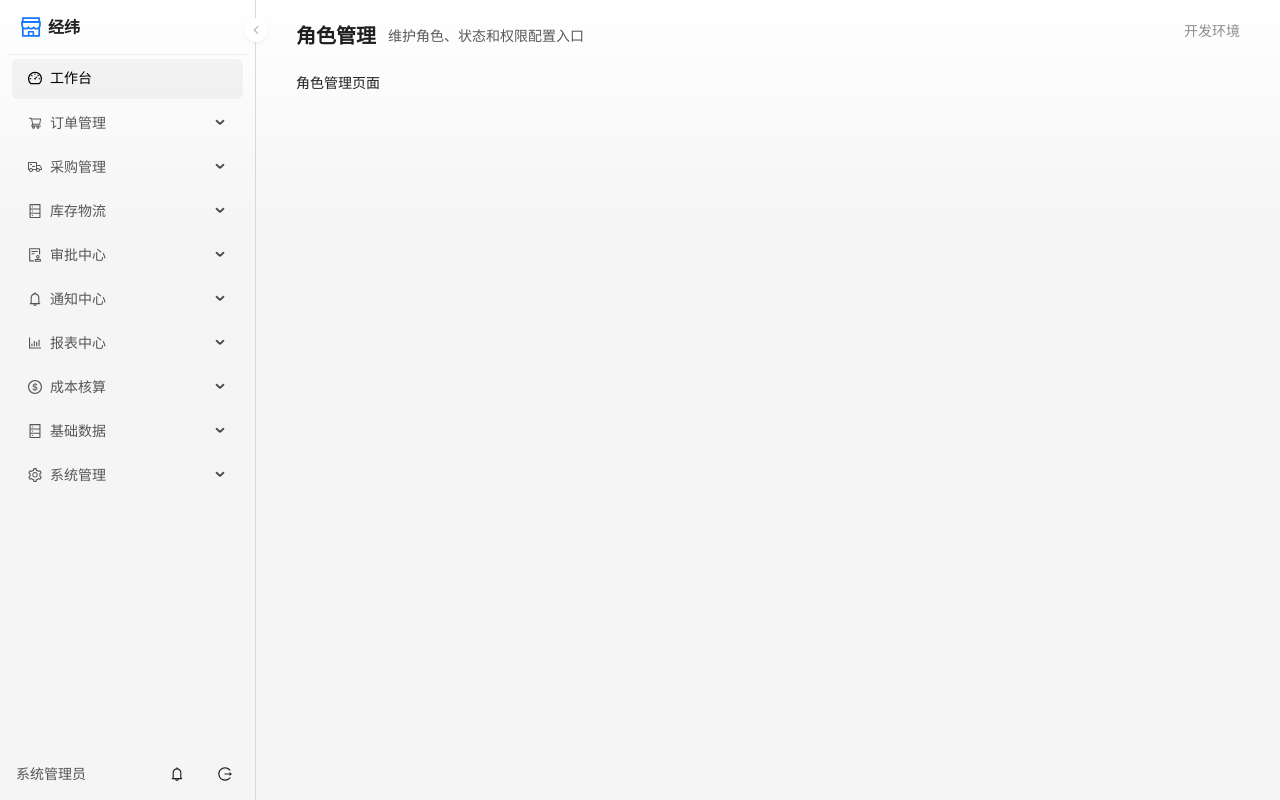
Test case: DashboardLayout › shows the system role menu from fallback when backend menu tree is empty
Step 1. Click the menu item "系统管理" → (67, 474), box [28,466,106,483]
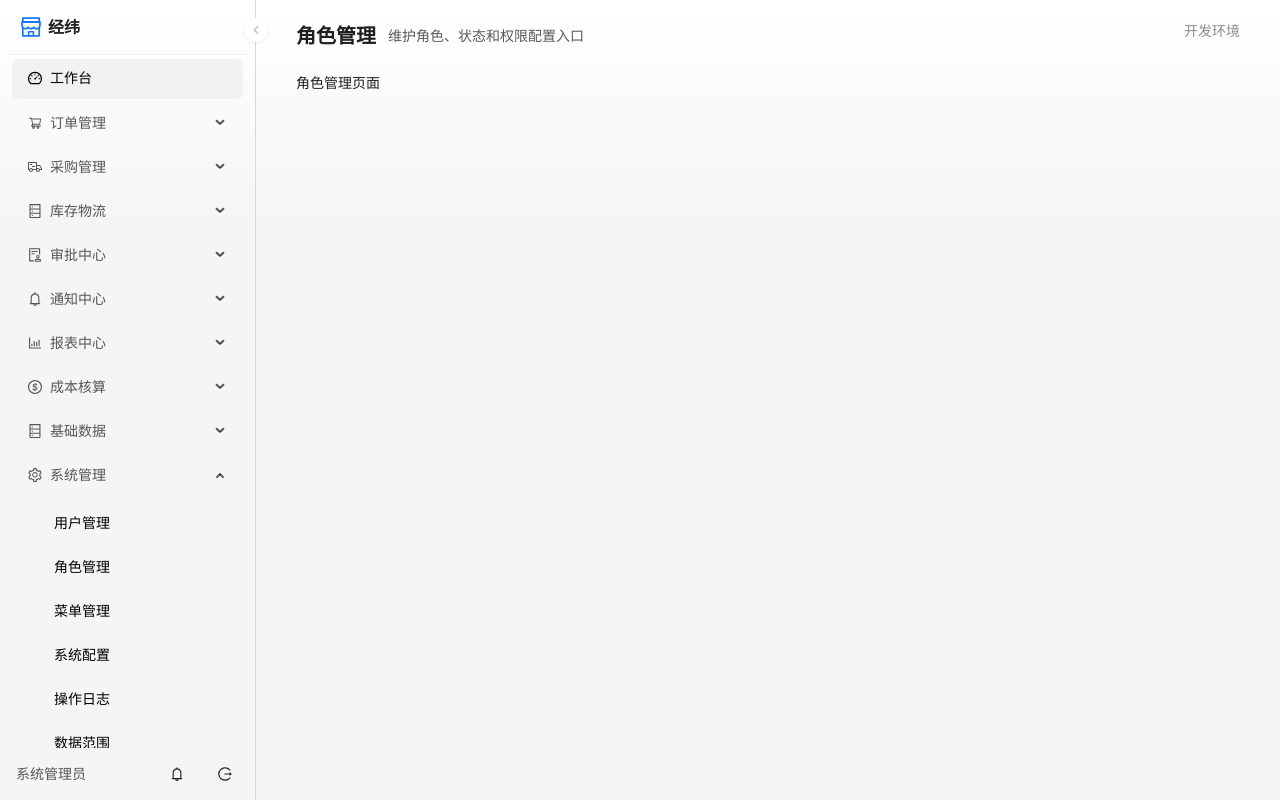
expect the text "角色管理页面" is shown: met, box [296,74,380,91]
expect the text "角色管理" is shown 2 times: met, box [54,558,110,575]; [296,20,376,52]
